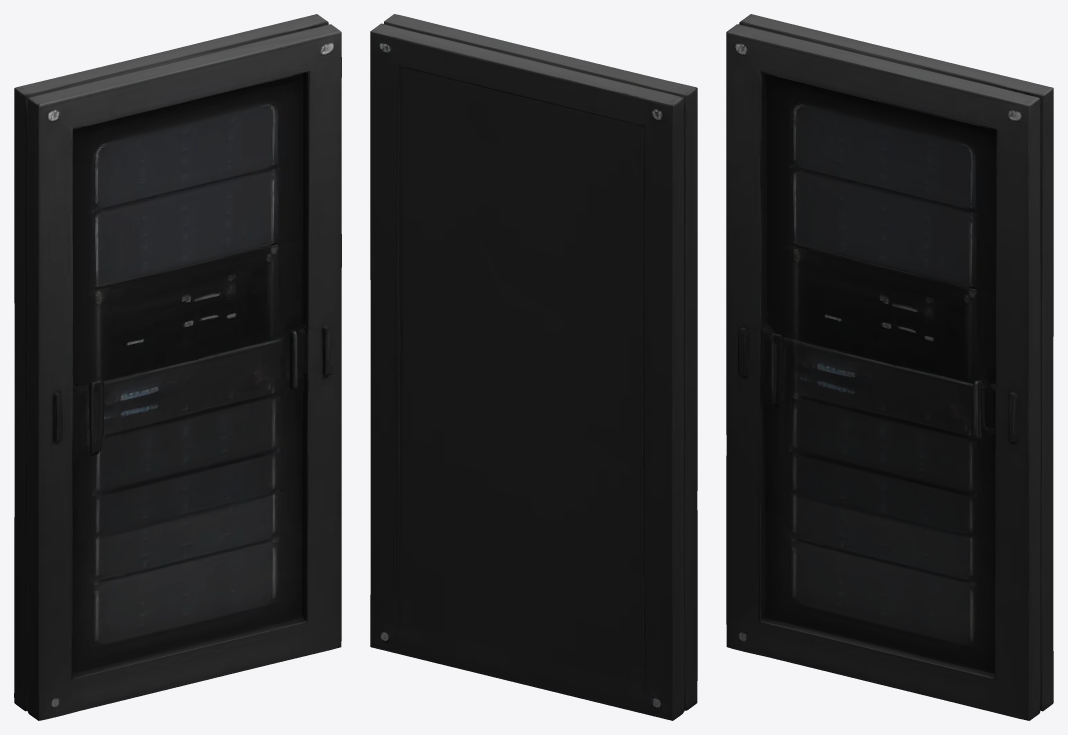
The picture shows the model from 3 angles, left to right: view 1: azimuth 30°, elevation 25°; view 2: azimuth 150°, elevation 25°; view 3: azimuth 330°, elevation 25°; orthographic projection.
Visible parts, largest first — view 1: geometry_0; view 2: geometry_0; view 3: geometry_0.
Boxes of the visible parts, left/top/right/bottom form: geometry_0: left=14, top=14, right=341, bottom=720; geometry_0: left=370, top=14, right=697, bottom=720; geometry_0: left=726, top=14, right=1053, bottom=720.
Size of the model in its own units: 0.5159 by 1 by 0.0862.
1 material, 1 textured.
